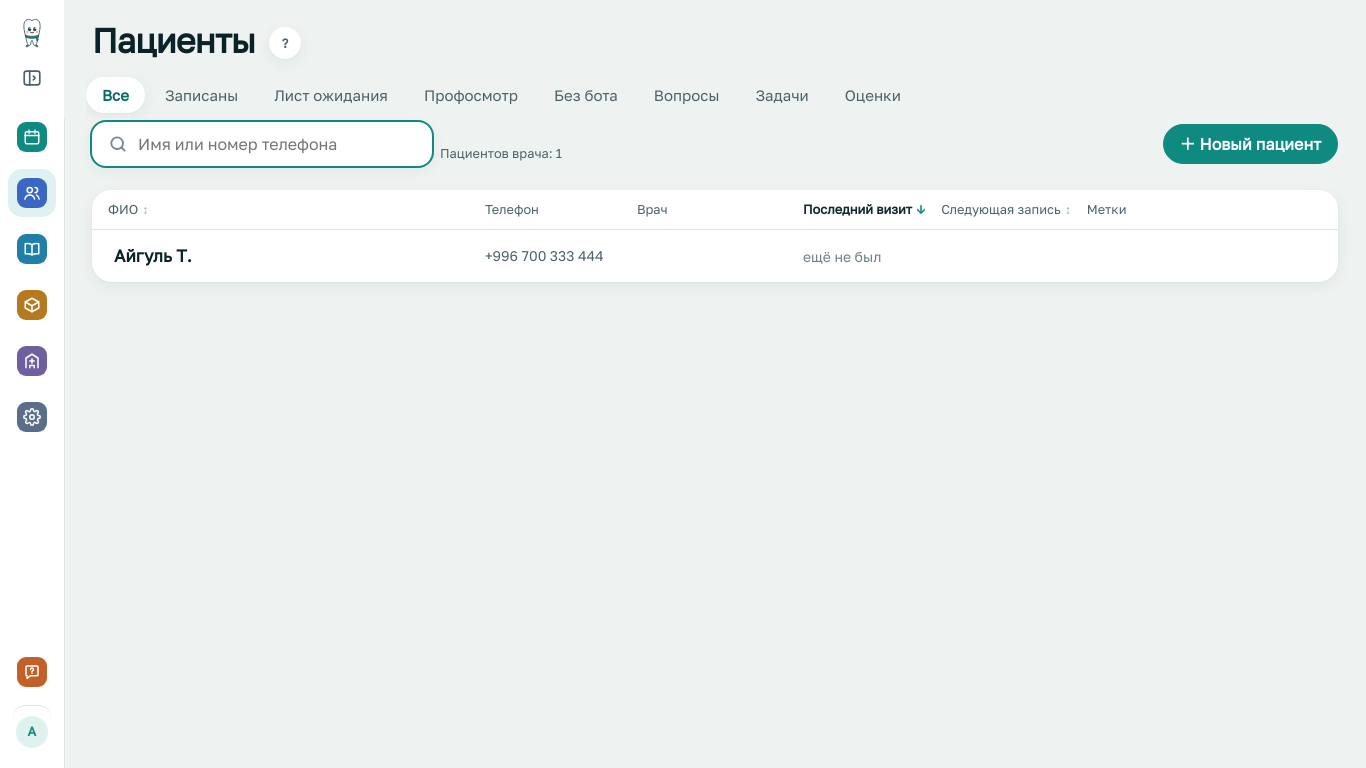
ассистент — «📤 Отправить пациенту» в Telegram
Click the button "Айгуль Т.": [153, 256] box x1=114 y1=243 x2=192 y2=269
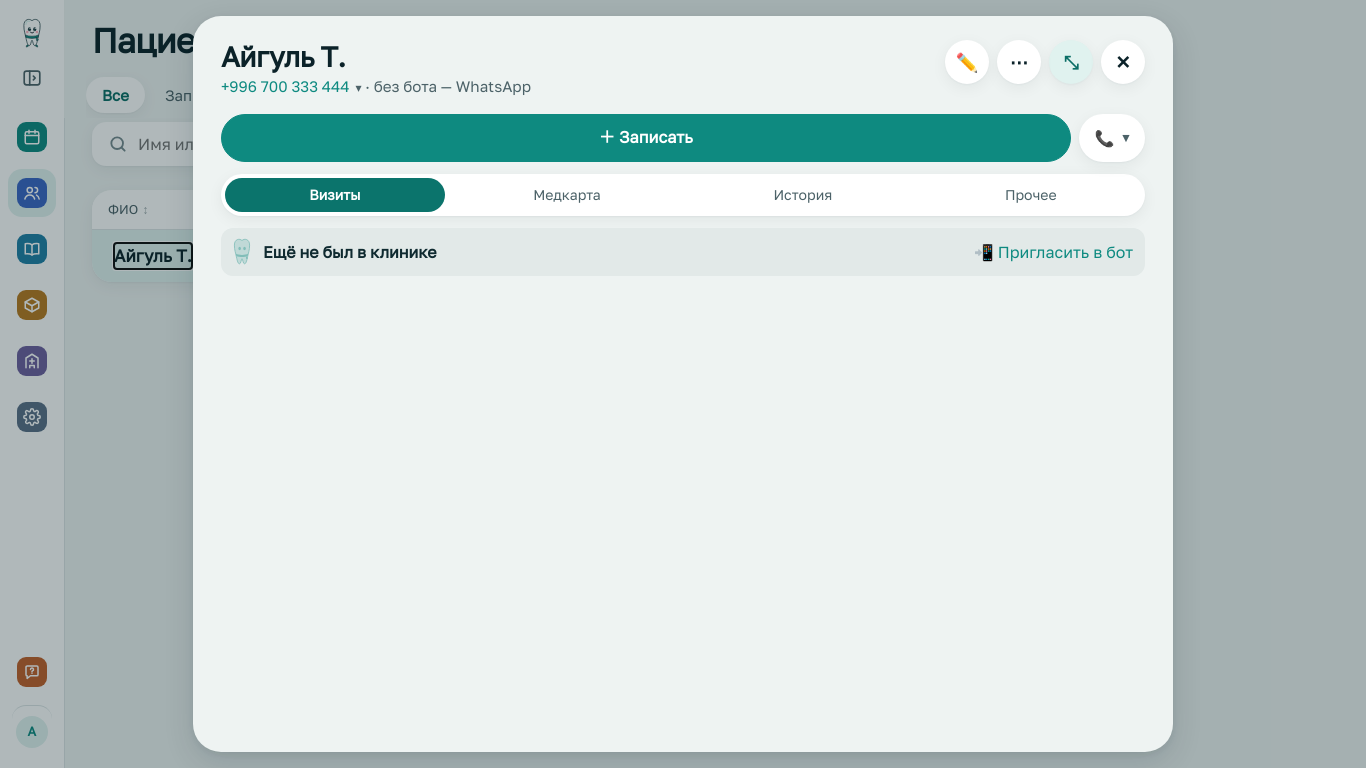
Click the tab "Медкарта": [567, 195] box x1=449 y1=178 x2=685 y2=212
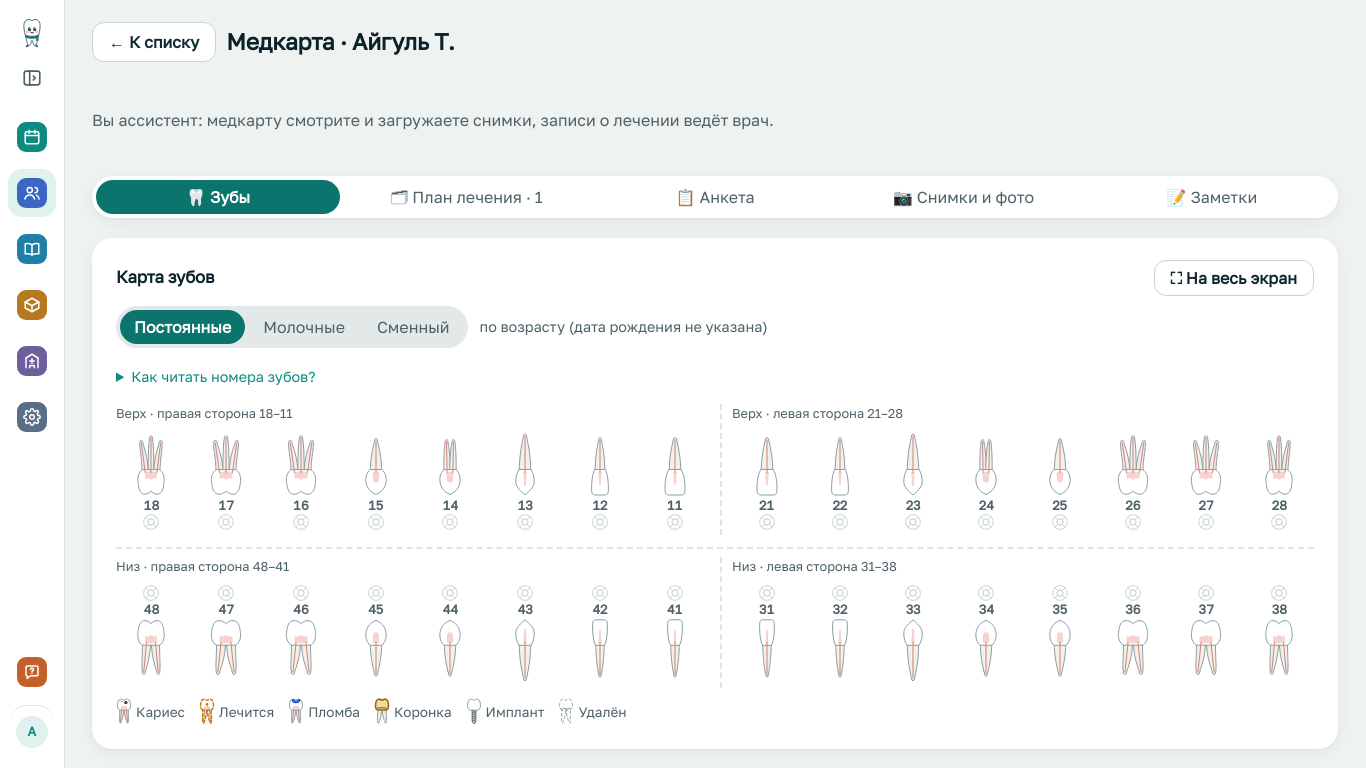
Check: the heading "Медкарта · Айгуль Т." is shown, box x1=226 y1=25 x2=455 y2=59
Click the tab "🗂 План лечения · 1": [467, 197] box x1=344 y1=180 x2=589 y2=214
(page scrolled)
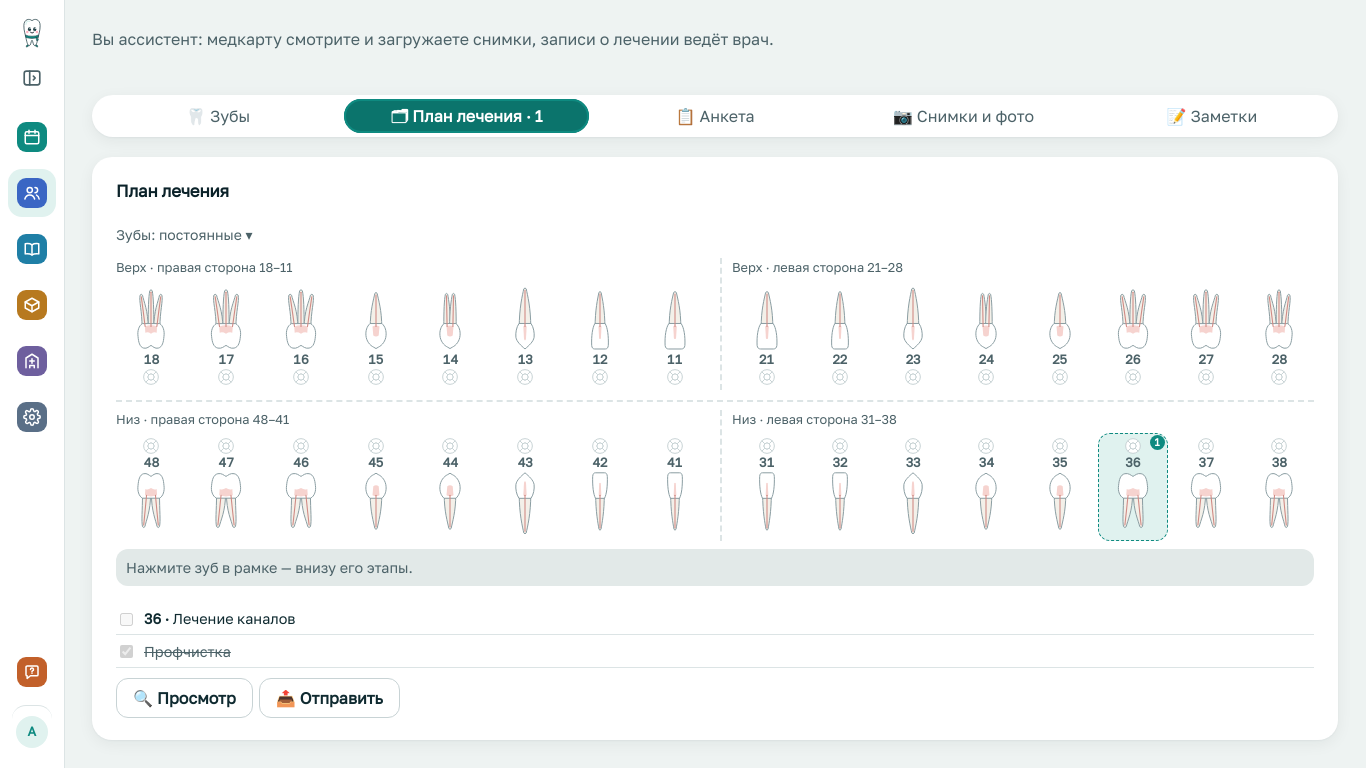
Click the button with aria-label "Просмотр: план лечения": [184, 698] box x1=116 y1=678 x2=253 y2=718
(page scrolled)
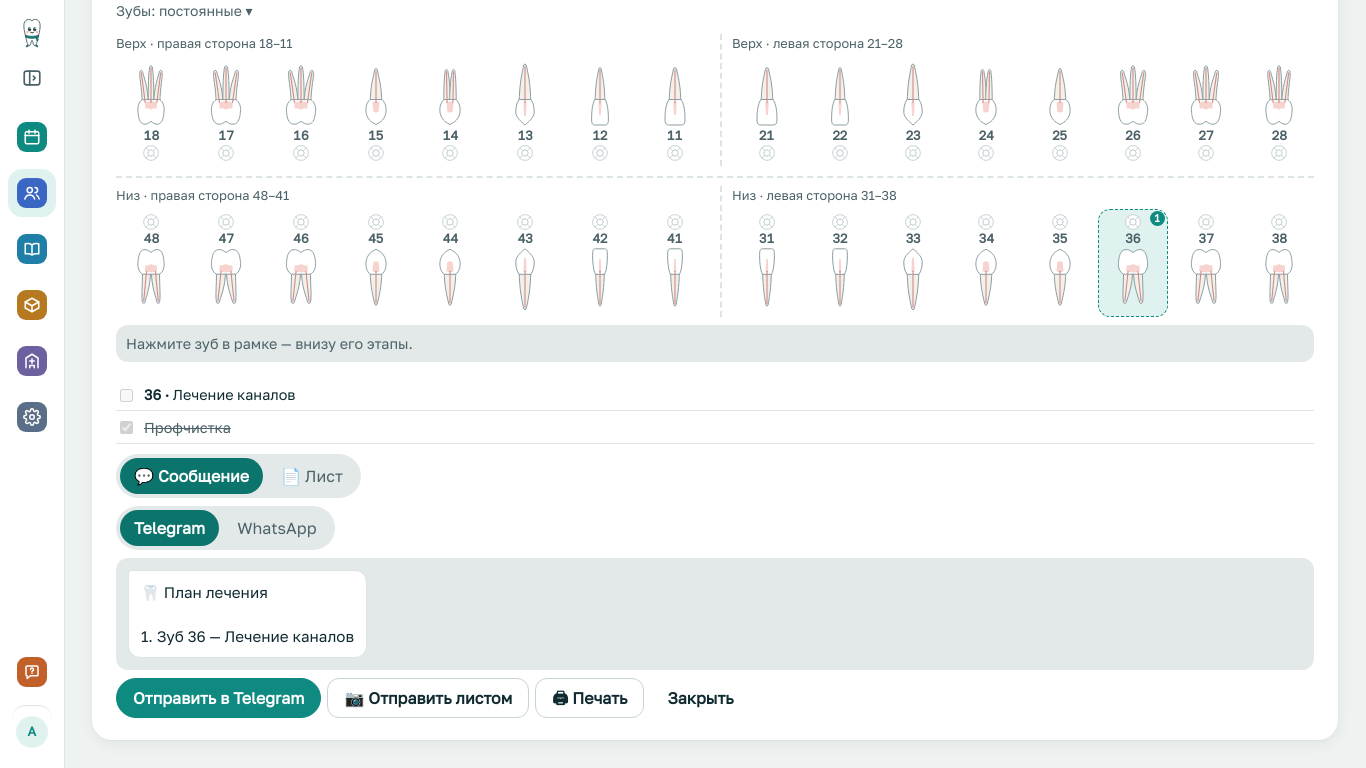
Check: the text named "Предпросмотр: план лечения" is shown, box x1=128 y1=570 x2=367 y2=658
Click the button with aria-label "Отправить пациенту в Telegram: план лечения": [219, 698] box x1=116 y1=678 x2=321 y2=718
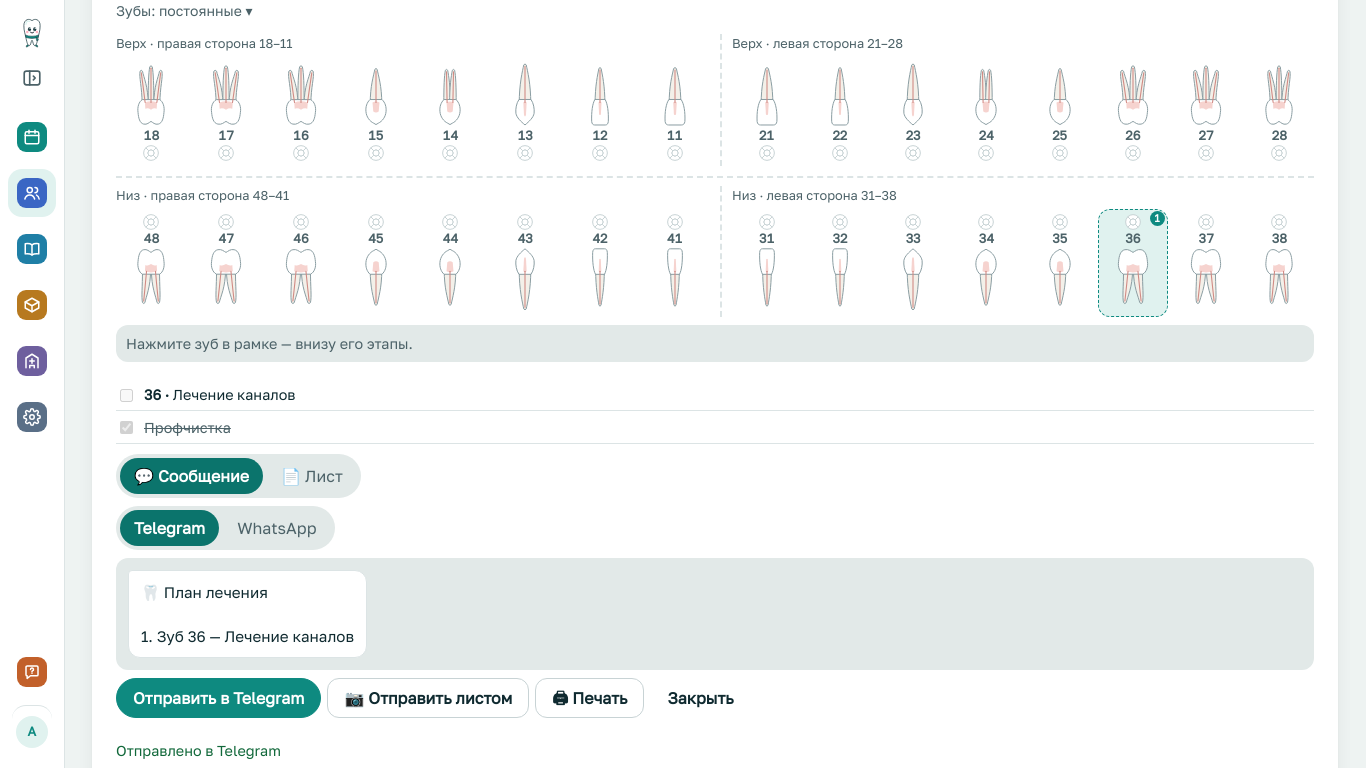
Check: the text "Отправлено в Telegram" is shown, box x1=116 y1=742 x2=281 y2=759
